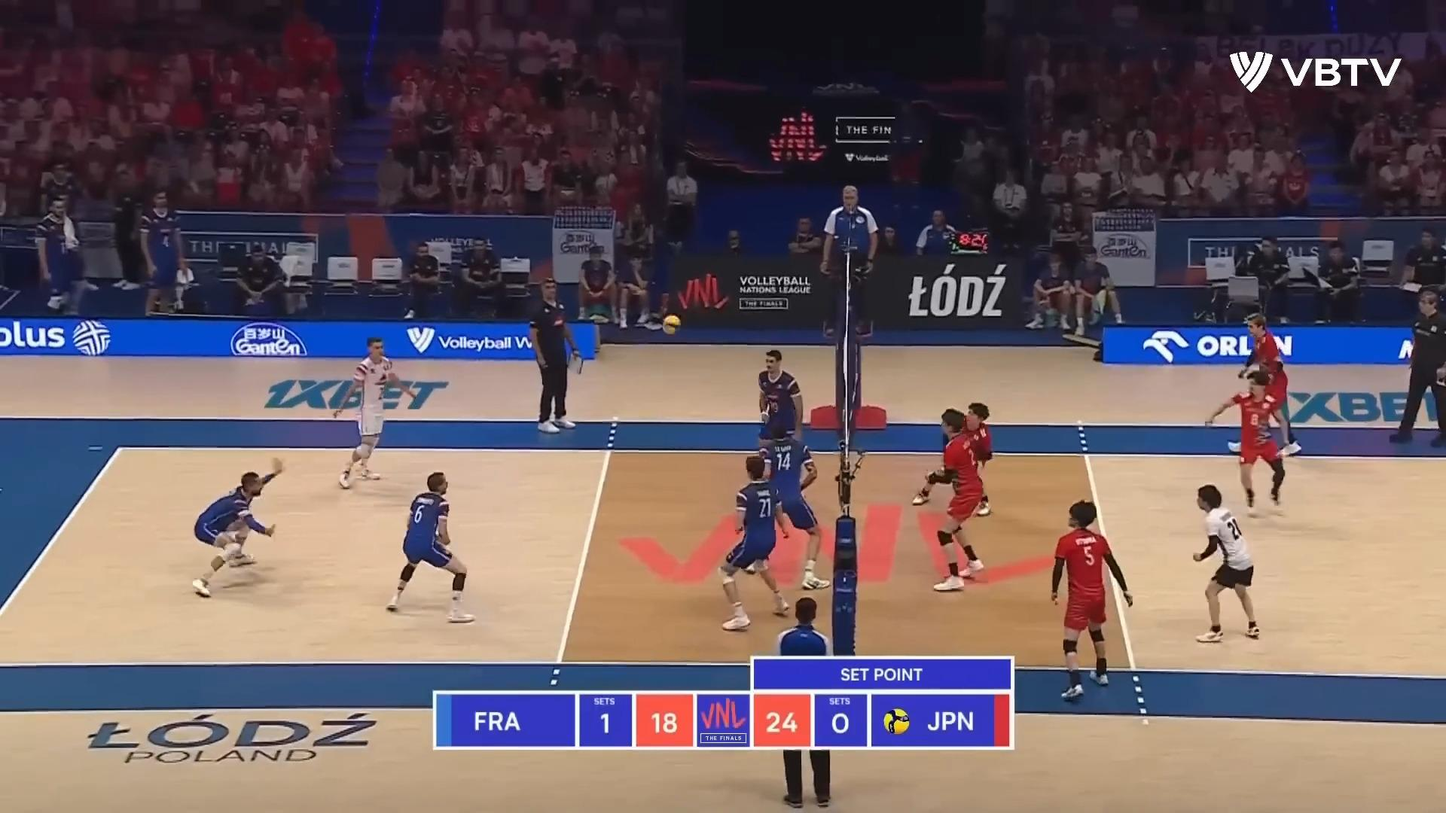ball: (660, 314, 682, 335)
